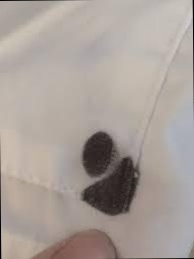ink: (81, 162, 135, 218), (82, 134, 111, 175)
